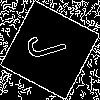J: (25, 25, 77, 63)
